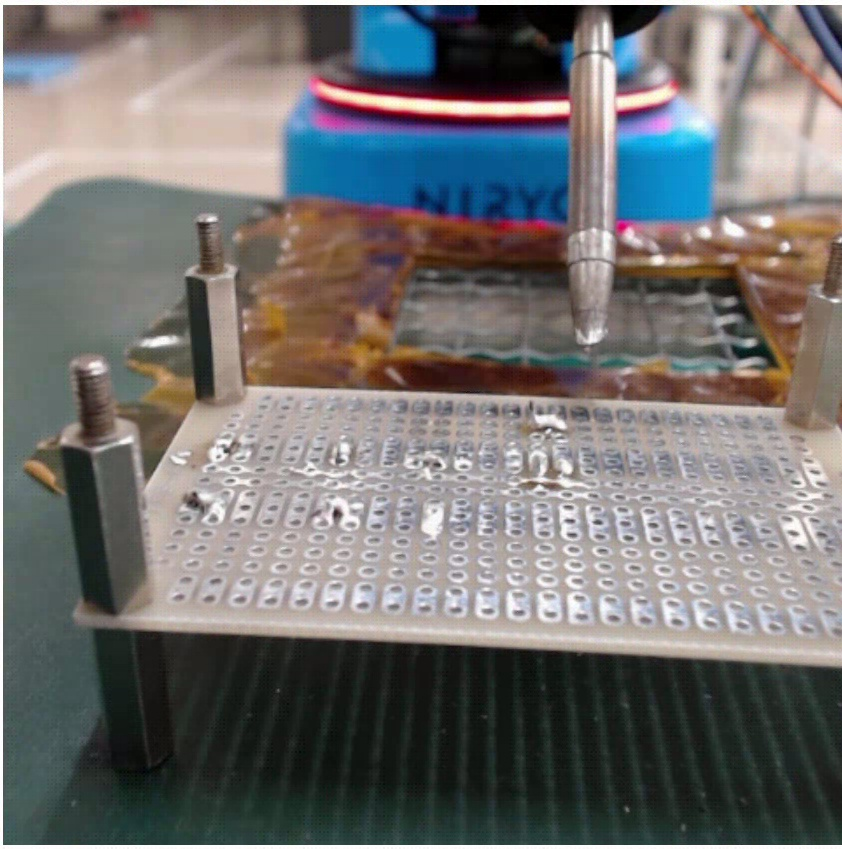soldering_iron: (568, 3, 617, 351)
